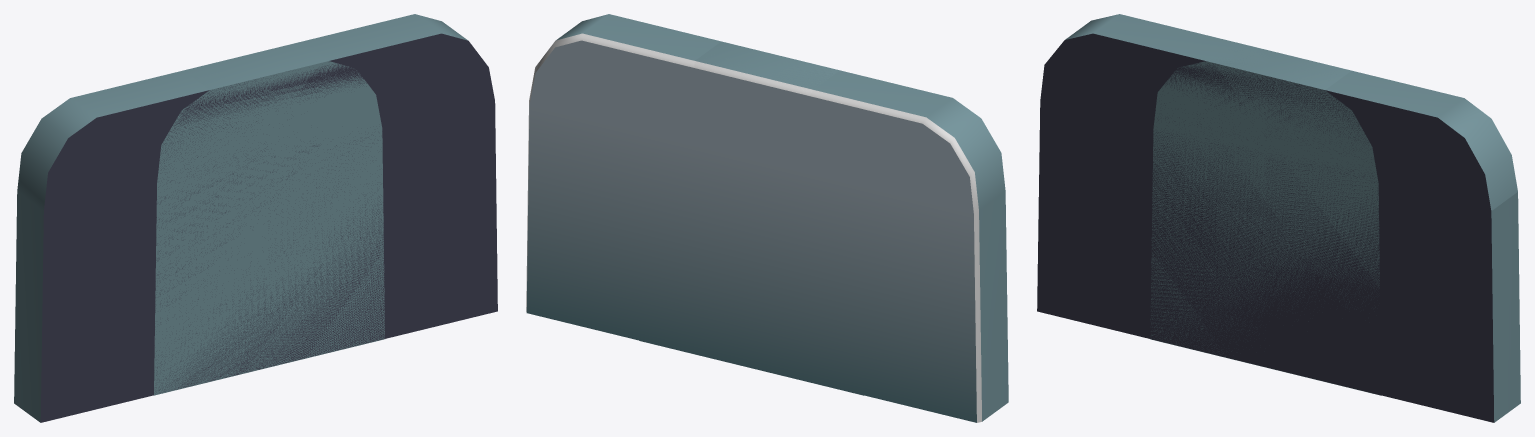
The model's file is PartySupplyStorePlate.fbx.
3 renders of one model, left to right at view 1: azimuth 30°, elevation 25°; view 2: azimuth 150°, elevation 25°; view 3: azimuth 330°, elevation 25°, orthographic.
Parts seen in each view (by area): view 1: PartySupplyStorePlateWide, PartySupplyStorePlateSmall; view 2: PartySupplyStorePlateWide, PartySupplyStorePlateSmall; view 3: PartySupplyStorePlateWide, PartySupplyStorePlateSmall.
Boxes of the visible parts, x1,y1,x2,y2 form: PartySupplyStorePlateWide: (14,14,497,422); PartySupplyStorePlateSmall: (154,41,384,395); PartySupplyStorePlateWide: (526,14,1008,422); PartySupplyStorePlateSmall: (639,41,863,395); PartySupplyStorePlateWide: (1037,14,1520,422); PartySupplyStorePlateSmall: (1150,48,1380,395).
Bounding box in the file's own units: 240 × 146 × 26.37.
